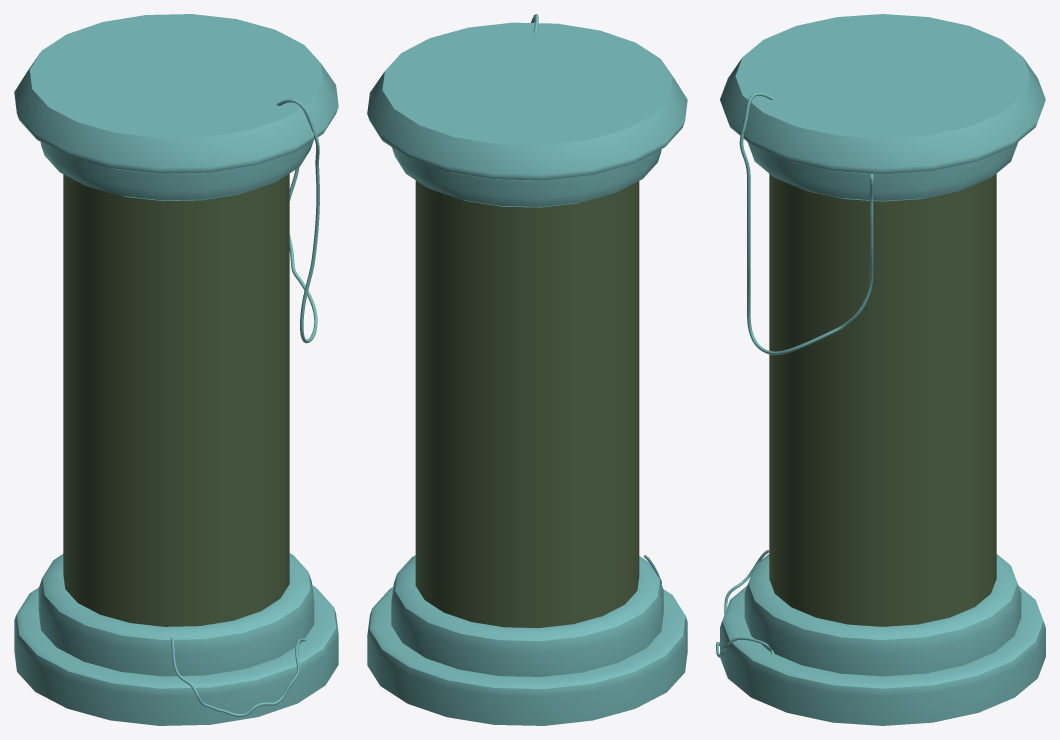
File: Tubo_4.fbx
3 views of the same model, side by side, from view 1: azimuth 30°, elevation 25°; view 2: azimuth 150°, elevation 25°; view 3: azimuth 270°, elevation 25° (orthographic).
Visible parts, largest first — view 1: polySurface79, polySurface80, polySurface82, polySurface84, polySurface83; view 2: polySurface79, polySurface80, polySurface82; view 3: polySurface79, polySurface80, polySurface82, polySurface84, polySurface83.
Part boxes in pixels (box(x1,y1,x2,y2)): polySurface79: box(63, 173, 289, 626); polySurface80: box(14, 14, 338, 201); polySurface82: box(14, 553, 338, 725); polySurface84: box(276, 98, 319, 343); polySurface83: box(170, 637, 308, 716); polySurface79: box(415, 180, 639, 627); polySurface80: box(367, 22, 687, 207); polySurface82: box(367, 555, 687, 725); polySurface79: box(769, 174, 996, 626); polySurface80: box(720, 14, 1045, 201); polySurface82: box(720, 554, 1045, 725); polySurface84: box(739, 92, 873, 355); polySurface83: box(716, 550, 774, 657).
Size of the model in its own units: 10.76 by 21.52 by 10.89.
